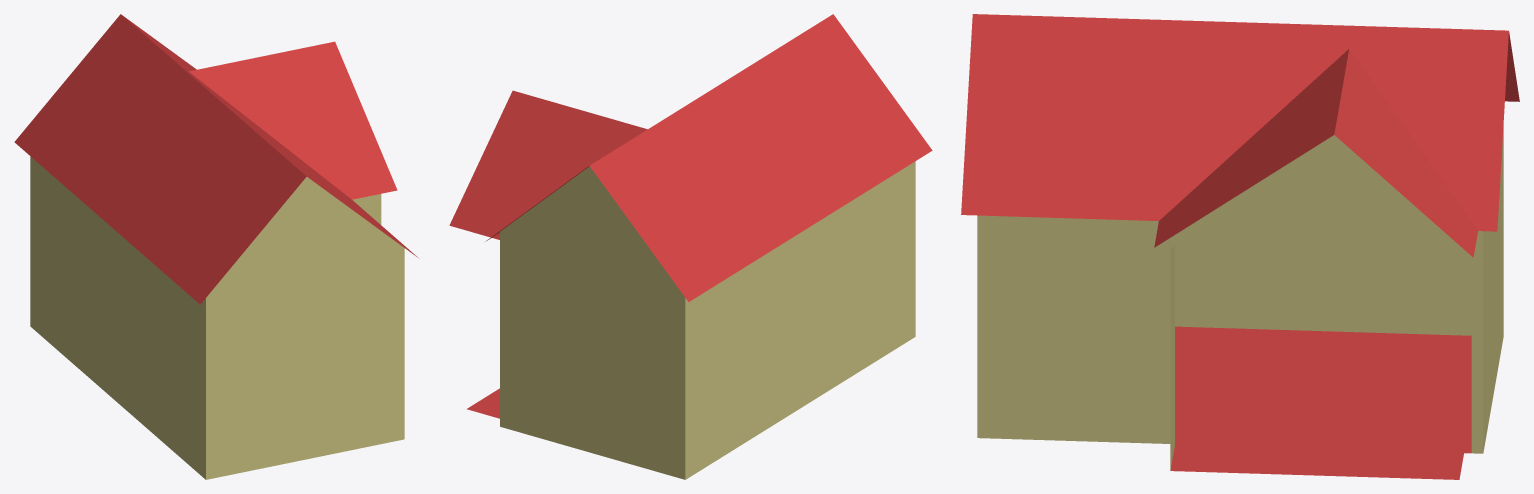
3 renders of one model, left to right at view 1: azimuth 30°, elevation 25°; view 2: azimuth 150°, elevation 25°; view 3: azimuth 270°, elevation 25°, orthographic. The views are drawn at different scales.
Bounding box in the file's own units: 13.46 × 18.41 × 13.19.
